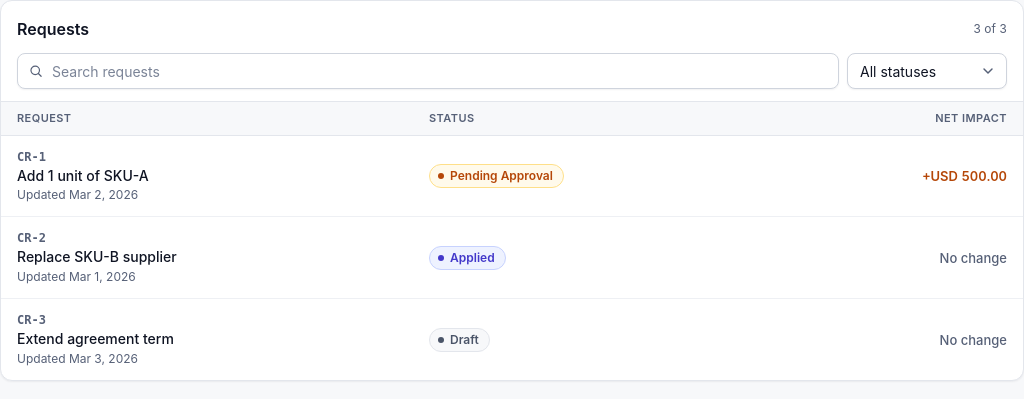
Scenario: CrListComponent › searches requests by identifier and title
Type "supplier" into the search field with class "cr-list__search" at (428, 71), box [17, 53, 839, 89]
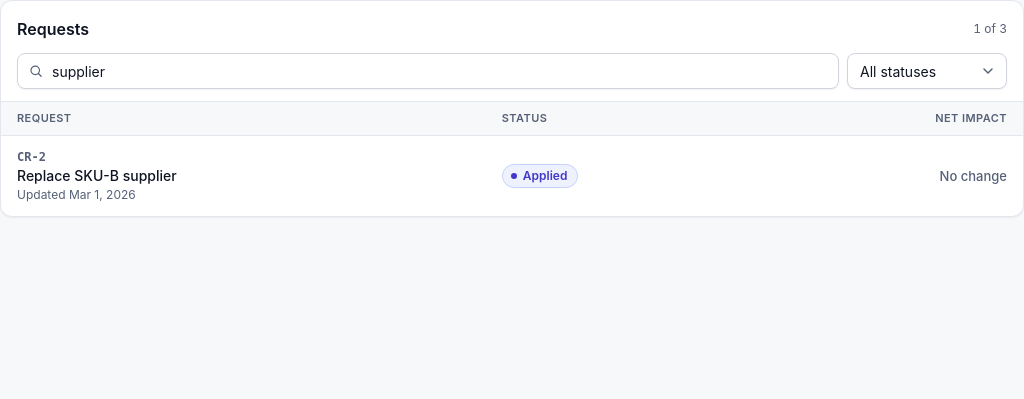
Expected: the row with class "cr-list__row" shows "CR-2", [17, 150, 46, 164]
Now the number of rows with class "cr-list__row" is 1, box [1, 135, 1023, 216]
